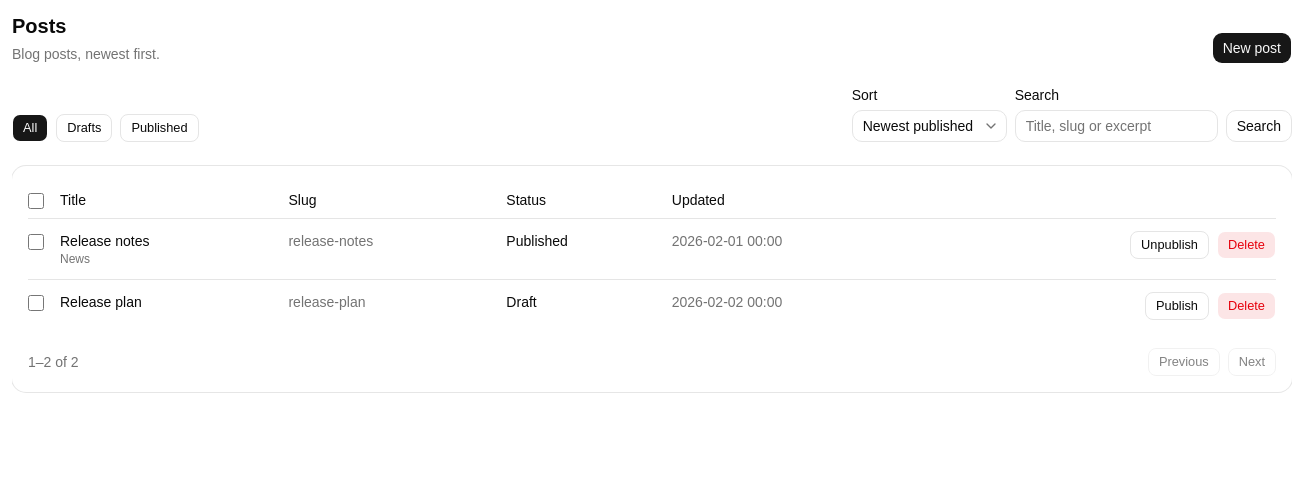
acting on a selection › selects the whole page from the header
Expected: the link "Release notes" is shown, left=60, top=233, right=150, bottom=249
Click the checkbox named "Select everything on this page" at (36, 201), box left=28, top=193, right=44, bottom=209
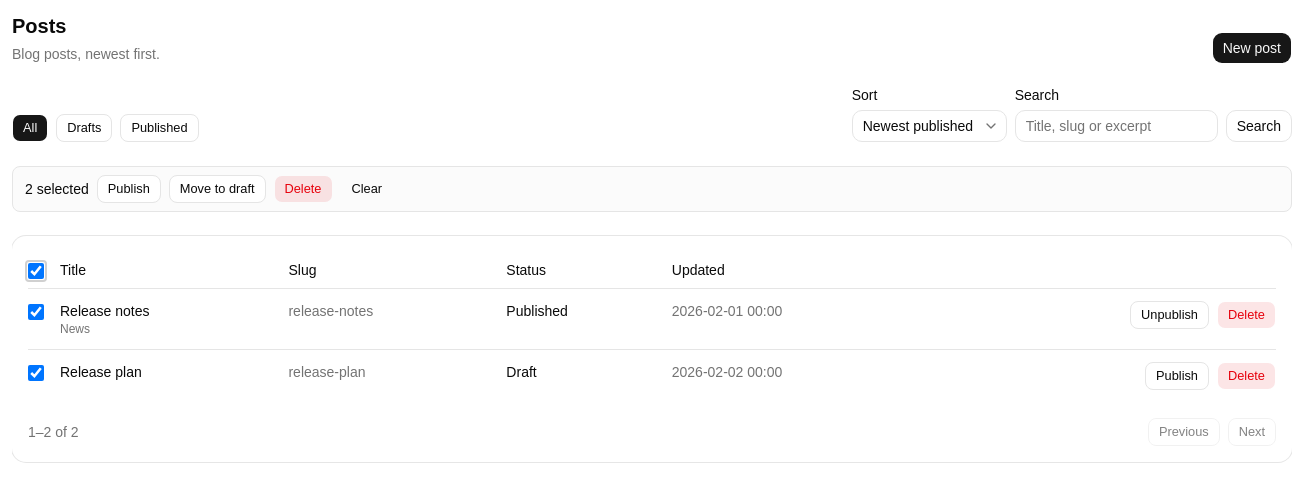
Expected: the message with test id "bulk-bar" shows "2 selected", left=25, top=181, right=89, bottom=197
